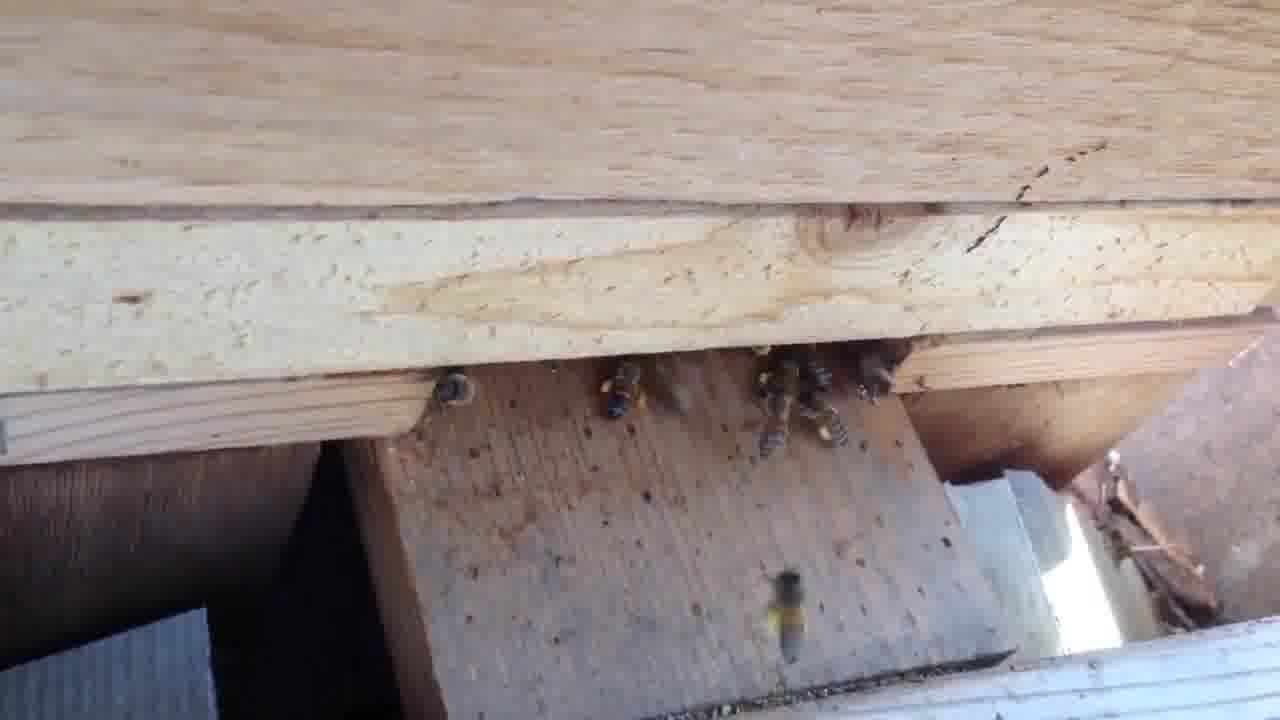pollen: (758, 561, 815, 663), (583, 360, 655, 418), (801, 398, 865, 459)
